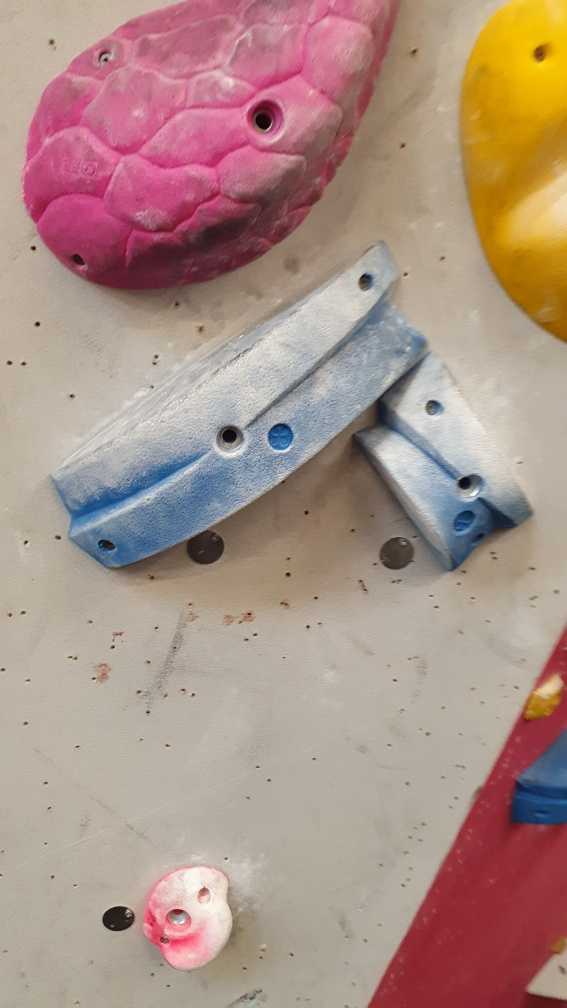Hand Start: (372, 532, 418, 581), (185, 531, 227, 568), (101, 904, 138, 933)
Pinch: (51, 242, 431, 570), (350, 353, 535, 575), (505, 726, 567, 833)
